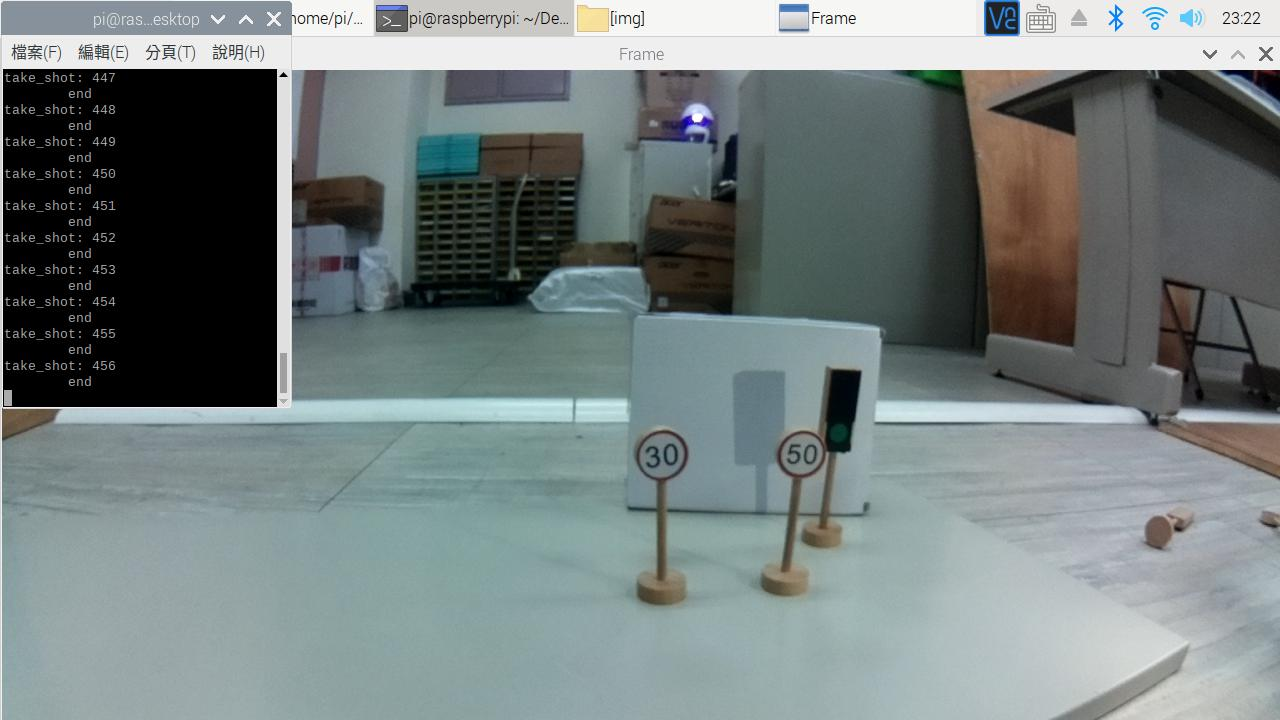Green: (813, 360, 869, 462)
Speed30: (624, 424, 694, 487)
Speed50: (772, 430, 824, 482)
